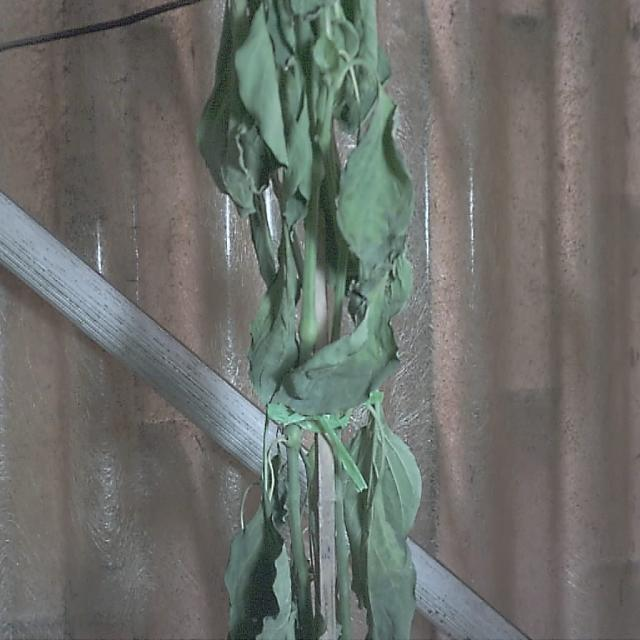Leaf: (346, 425, 421, 638), (335, 87, 413, 276), (276, 308, 402, 416), (230, 12, 288, 183), (226, 514, 296, 640), (248, 272, 298, 398)
